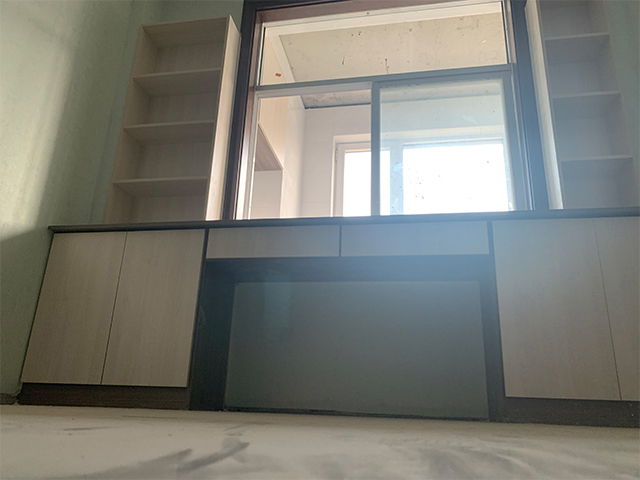table: (20, 203, 640, 428)
